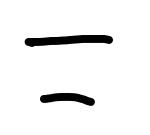eqv: (25, 35, 113, 107)
